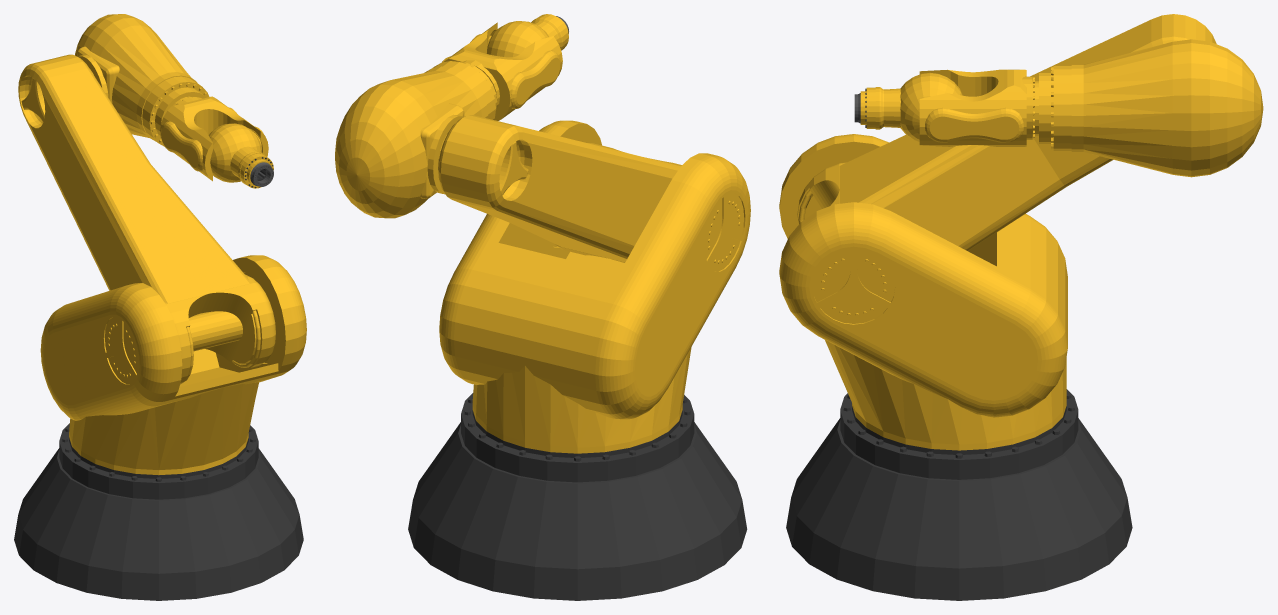
File: robot2.fbx
3 renders of one model, left to right at view 1: azimuth 30°, elevation 25°; view 2: azimuth 150°, elevation 25°; view 3: azimuth 270°, elevation 25°, orthographic. The views are drawn at different scales.
Parts seen in each view (by area): view 1: fix_base, base_0, arm_0, arm2, bone_base004, Komponente_23; view 2: base_0, fix_base, arm_0, arm2, bone_base004, Komponente_23; view 3: base_0, fix_base, arm2, arm_0, bone_base004, Komponente_23, bone_base005.
Boxes of the visible parts, left/top/right/bottom form: fix_base: left=14, top=423, right=303, bottom=600; base_0: left=40, top=255, right=306, bottom=469; arm_0: left=18, top=54, right=275, bottom=384; arm2: left=75, top=14, right=268, bottom=181; bone_base004: left=208, top=123, right=262, bottom=182; Komponente_23: left=237, top=152, right=273, bottom=188; base_0: left=439, top=120, right=750, bottom=447; fix_base: left=408, top=393, right=747, bottom=600; arm_0: left=438, top=115, right=681, bottom=262; arm2: left=335, top=22, right=562, bottom=218; bone_base004: left=486, top=21, right=548, bottom=57; Komponente_23: left=531, top=14, right=568, bottom=50; base_0: left=779, top=134, right=1067, bottom=444; fix_base: left=786, top=389, right=1132, bottom=600; arm2: left=919, top=39, right=1263, bottom=177; arm_0: left=797, top=14, right=1216, bottom=250; bone_base004: left=900, top=72, right=962, bottom=141; Komponente_23: left=854, top=87, right=883, bottom=129; bone_base005: left=884, top=88, right=900, bottom=127.
Bounding box in the file's own units: 45.83 × 64.02 × 75.96.
